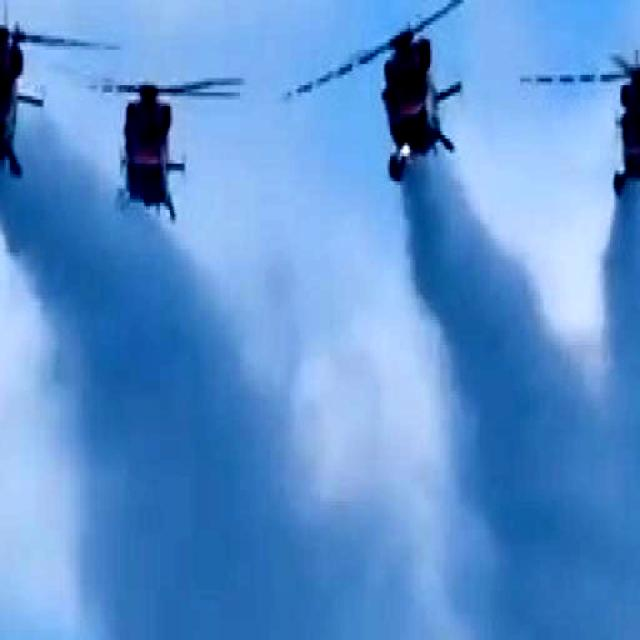drone: (284, 0, 532, 196), (89, 26, 242, 235), (511, 19, 640, 199), (0, 0, 105, 185)
